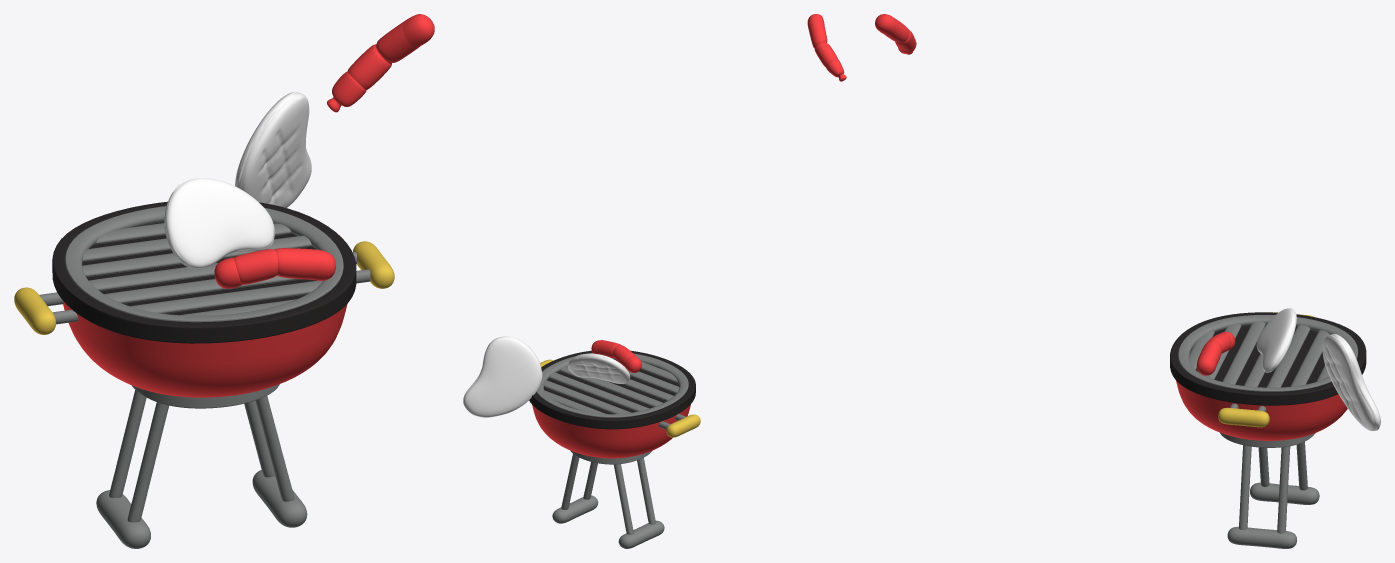
The model's file is barbeque-3d-animated-icon-213670138495.glb.
3 renders of one model, left to right at view 1: azimuth 30°, elevation 25°; view 2: azimuth 150°, elevation 25°; view 3: azimuth 270°, elevation 25°, orthographic. The views are drawn at different scales.
Visible parts, largest first — view 1: Cube.003, Cube, Cube.002, Cube.015, Cube.011, Cube.001, Cube.014, Cube.012, Cube.013; view 2: Cube.003, Cube.001, Cube.002, Cube, Cube.015, Cube.011, Cube.014, Cube.012, Cube.013; view 3: Cube.003, Cube.002, Cube.015, Cube, Cube.001, Cube.011, Cube.012, Cube.013, Cube.014.
Part boxes in pixels (x1=…): Cube.003: x1=65, y1=206, x2=343, y2=322; Cube: x1=63, y1=301, x2=347, y2=397; Cube.002: x1=52, y1=201, x2=356, y2=343; Cube.015: x1=96, y1=384, x2=307, y2=548; Cube.011: x1=164, y1=178, x2=274, y2=269; Cube.001: x1=235, y1=91, x2=311, y2=207; Cube.014: x1=327, y1=14, x2=434, y2=112; Cube.012: x1=214, y1=248, x2=335, y2=288; Cube.013: x1=14, y1=241, x2=394, y2=334; Cube.003: x1=536, y1=353, x2=688, y2=417; Cube.001: x1=463, y1=336, x2=542, y2=417; Cube.002: x1=529, y1=350, x2=695, y2=429; Cube: x1=532, y1=404, x2=690, y2=458; Cube.015: x1=552, y1=450, x2=664, y2=548; Cube.011: x1=568, y1=353, x2=630, y2=383; Cube.014: x1=807, y1=14, x2=846, y2=81; Cube.012: x1=591, y1=340, x2=641, y2=372; Cube.013: x1=540, y1=359, x2=700, y2=437; Cube.003: x1=1178, y1=315, x2=1357, y2=391; Cube.002: x1=1170, y1=312, x2=1366, y2=405; Cube.015: x1=1220, y1=432, x2=1319, y2=548; Cube: x1=1176, y1=380, x2=1347, y2=440; Cube.001: x1=1322, y1=334, x2=1380, y2=431; Cube.011: x1=1256, y1=308, x2=1296, y2=372; Cube.012: x1=1196, y1=332, x2=1235, y2=375; Cube.013: x1=1218, y1=312, x2=1314, y2=427; Cube.014: x1=875, y1=14, x2=916, y2=54.
Bounding box in the file's own units: 7.68 × 15.4 × 14.61.
